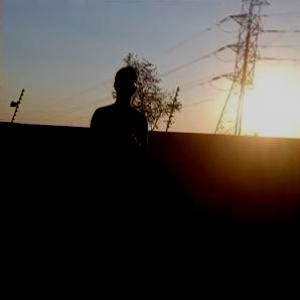follow: (64, 60, 152, 290)
